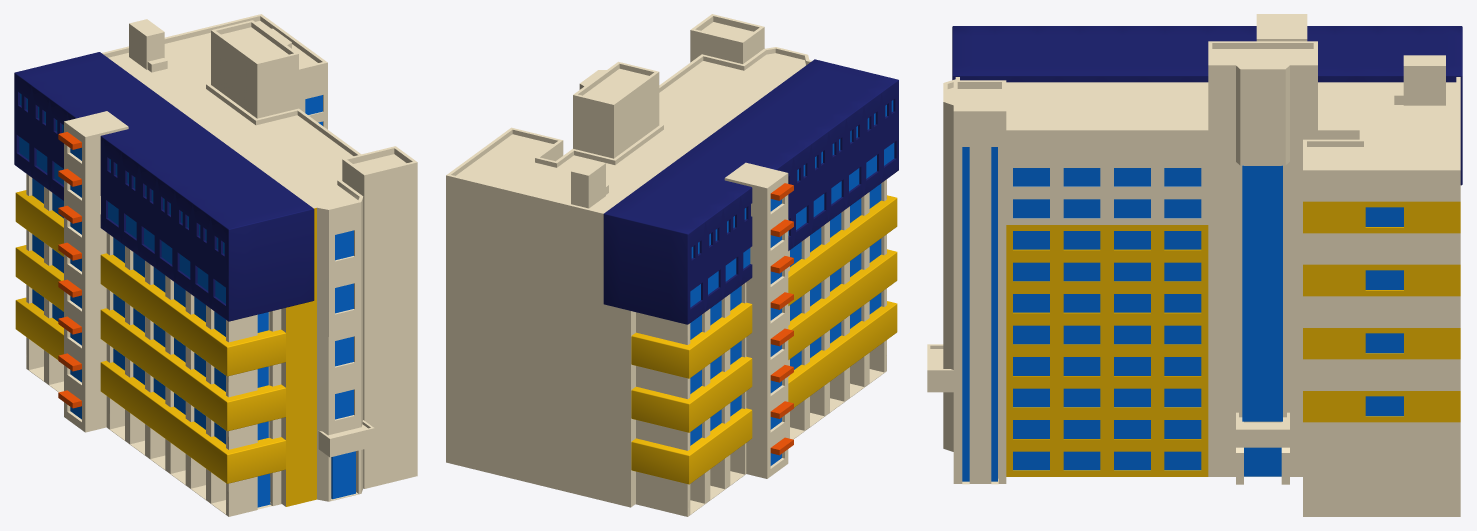
File: 제2과학기술관.fbx
3 renders of one model, left to right at view 1: azimuth 30°, elevation 25°; view 2: azimuth 150°, elevation 25°; view 3: azimuth 270°, elevation 25°, orthographic. The views are drawn at different scales.
Visible parts, largest first — view 1: 제2과학기술관, Cube_147, Cube_148, Cube_149, Cube_151, Cube_150, Cube_152, Cube_153, Cube_28, Cube_155, Cube_8, Cube_154 (+1 smaller); view 2: 제2과학기술관, Cube_147, Cube_148, Cube_149, Cube_150, Cube_151, Cube_152, Cube_153, Cube_155, Cube_8, Cube; view 3: 제2과학기술관, Cube_29, Cube_147, Cube_113, Cube_2, Cube_31, Cube_8, Cube_149, Cube_1.
Boxes of the visible parts, x1,y1,x2,y2 form: 제2과학기술관: [102, 14, 417, 506]; Cube_147: [14, 52, 314, 321]; Cube_148: [26, 174, 281, 516]; Cube_149: [58, 111, 128, 432]; Cube_151: [15, 245, 285, 431]; Cube_150: [15, 190, 285, 376]; Cube_152: [15, 297, 285, 483]; Cube_153: [32, 178, 225, 444]; Cube_28: [331, 230, 355, 499]; Cube_155: [19, 93, 225, 303]; Cube_8: [129, 19, 164, 69]; Cube_154: [257, 312, 270, 507]; 제2과학기술관: [446, 14, 812, 507]; Cube_147: [603, 59, 898, 324]; Cube_148: [636, 179, 886, 516]; Cube_149: [724, 162, 793, 478]; Cube_150: [631, 195, 897, 378]; Cube_151: [631, 249, 897, 432]; Cube_152: [631, 301, 897, 484]; Cube_153: [690, 183, 881, 445]; Cube_155: [690, 100, 894, 307]; Cube_8: [571, 158, 605, 208]; Cube: [770, 199, 781, 465]; 제2과학기술관: [927, 41, 1460, 516]; Cube_29: [1013, 168, 1201, 470]; Cube_147: [952, 26, 1462, 185]; Cube_113: [1242, 165, 1282, 421]; Cube_2: [962, 147, 997, 481]; Cube_31: [1365, 207, 1403, 416]; Cube_8: [1403, 55, 1445, 105]; Cube_149: [1256, 14, 1307, 41]; Cube_1: [1244, 447, 1281, 476].
Size of the model in its own units: 614 by 754 by 883.
